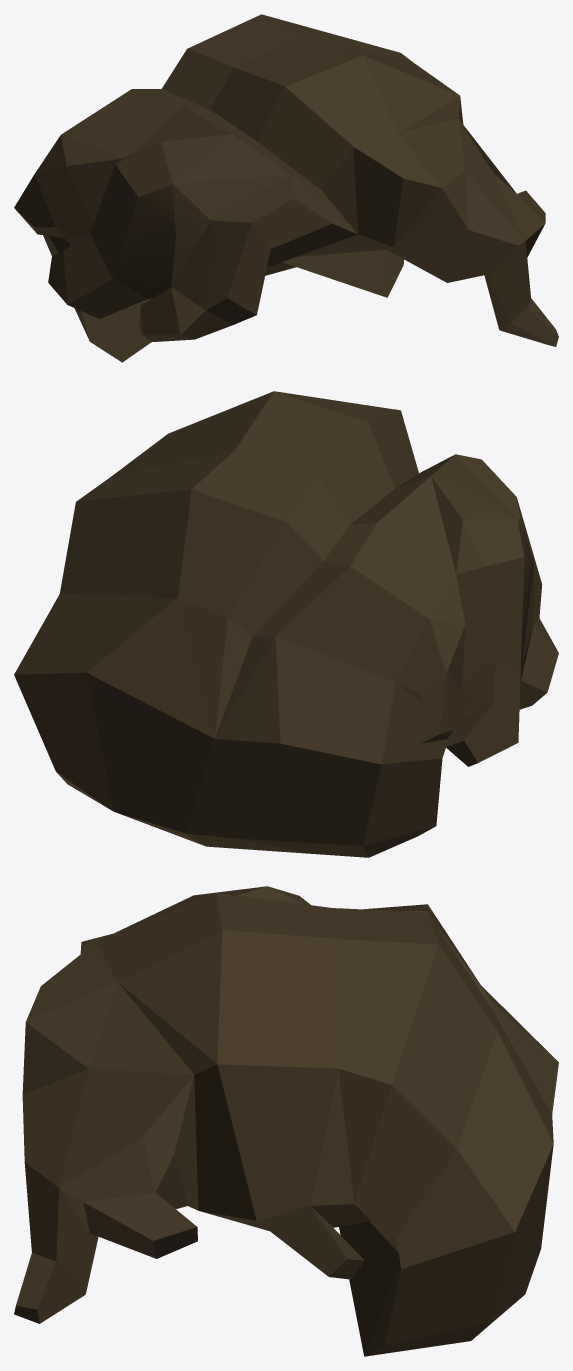
The model's file is Chr_Hair_14_Static.fbx.
The picture shows the model from 3 angles, top to bottom: view 1: azimuth 30°, elevation 25°; view 2: azimuth 150°, elevation 25°; view 3: azimuth 270°, elevation 25°; orthographic projection. The views are drawn at different scales.
Visible parts, largest first — view 1: Chr_Hair_14_Static; view 2: Chr_Hair_14_Static; view 3: Chr_Hair_14_Static.
Part boxes in pixels (x1,y1,x2,y2): Chr_Hair_14_Static: [14, 14, 558, 362]; Chr_Hair_14_Static: [14, 391, 558, 857]; Chr_Hair_14_Static: [14, 886, 558, 1356].
Size of the model in its own units: 0.3359 by 0.2401 by 0.3118.
